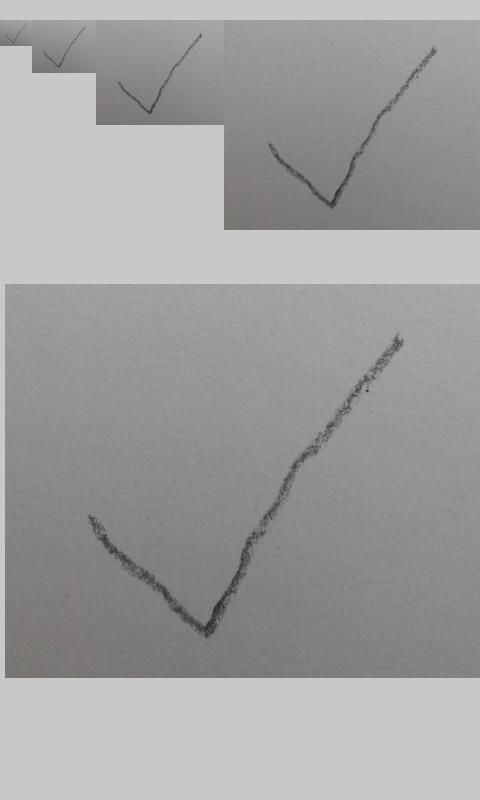check_box: (86, 339, 398, 636), (269, 50, 435, 209), (119, 35, 201, 114), (43, 27, 85, 68), (6, 26, 24, 44)
